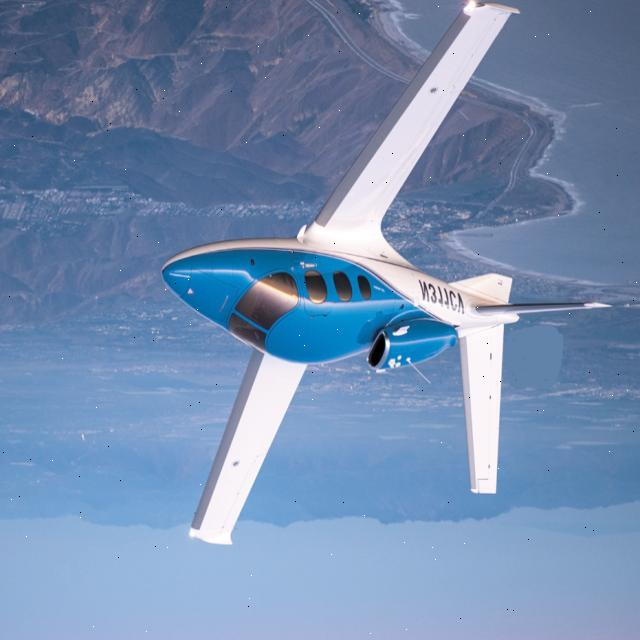jet: (121, 0, 627, 599)
